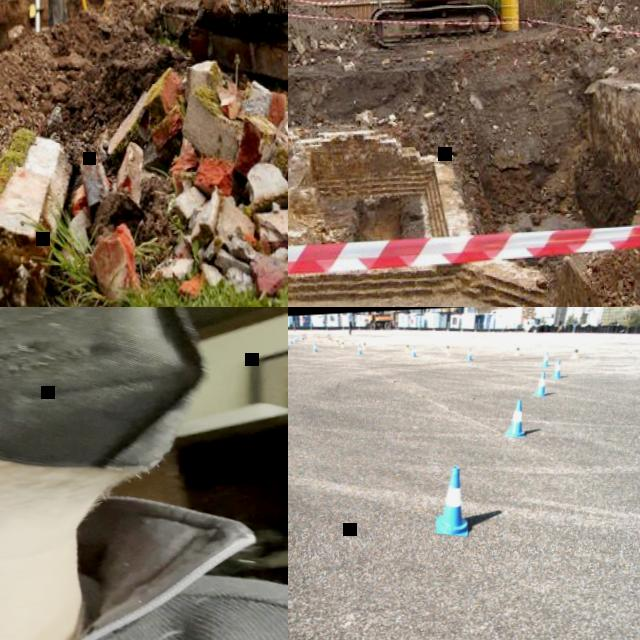Mask: (0, 307, 216, 493)
NO-Safety Vest: (0, 558, 288, 640)
Person: (0, 307, 288, 640), (38, 0, 81, 30)
Safety Cone: (434, 466, 469, 538), (504, 399, 525, 438), (532, 372, 548, 397), (549, 359, 562, 379), (540, 351, 550, 367), (570, 346, 579, 358), (466, 347, 473, 361), (411, 346, 418, 358), (514, 345, 521, 356), (446, 342, 451, 353), (313, 342, 318, 352), (358, 344, 363, 354), (404, 342, 409, 352), (341, 340, 345, 348), (363, 341, 366, 349), (336, 338, 339, 346), (290, 336, 293, 344), (330, 338, 333, 344), (294, 336, 297, 342), (296, 334, 298, 342), (301, 334, 303, 342), (325, 334, 327, 340), (302, 334, 304, 340), (304, 333, 306, 339), (317, 332, 319, 338), (328, 334, 330, 339), (288, 340, 289, 349)
vehicle: (288, 0, 503, 67)
